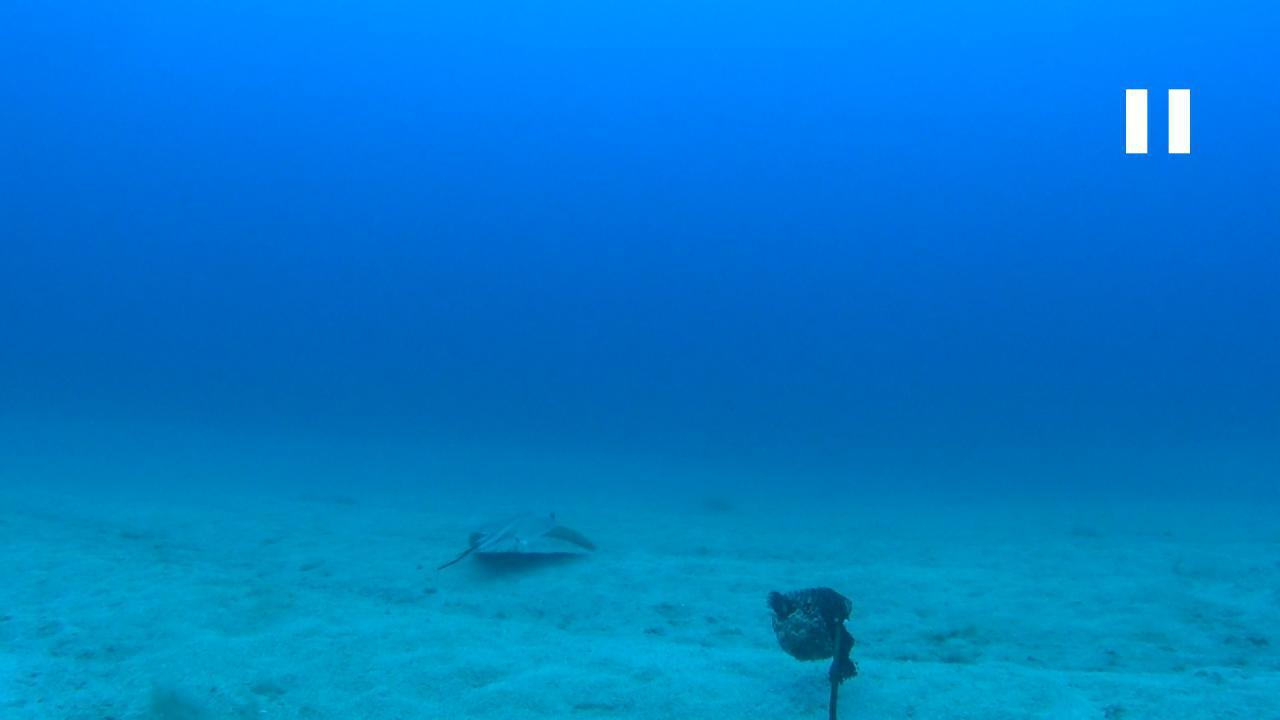dasyatis: (434, 508, 596, 570)
